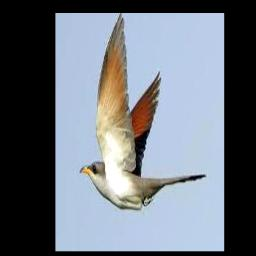Cuckoo: (80, 13, 206, 209)
